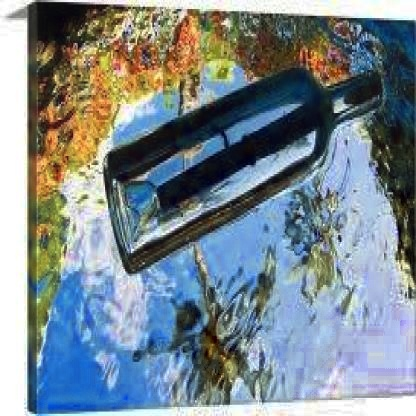gbottle: (102, 65, 381, 276)
